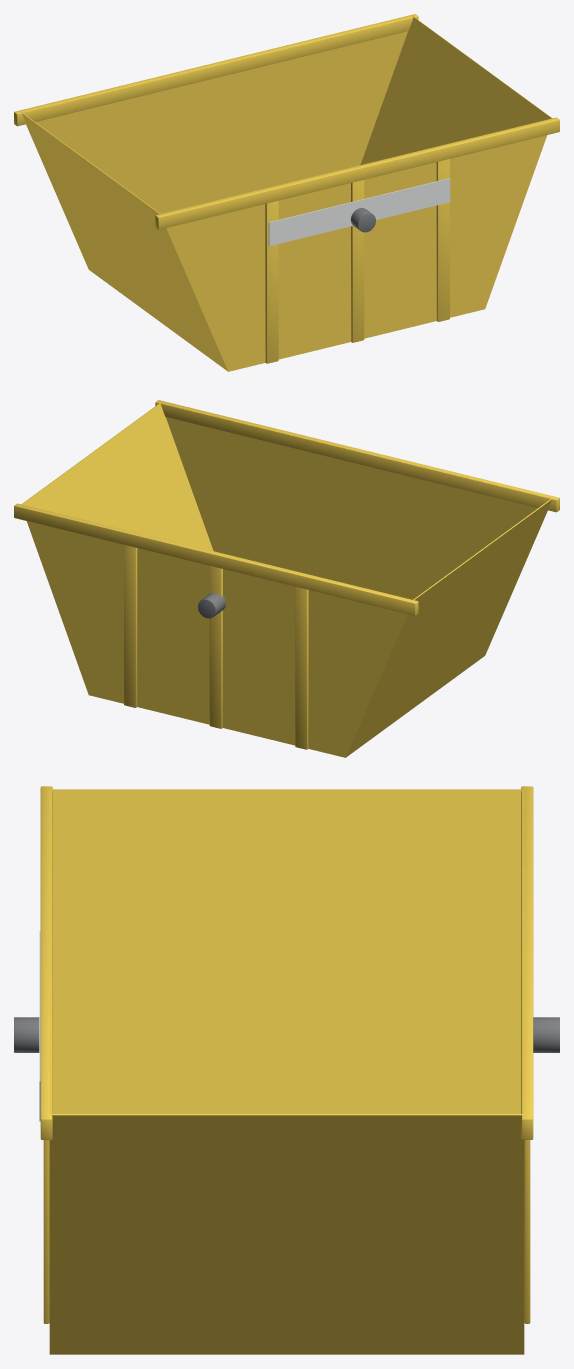
The model's file is SER-CAC-001_anim.glb.
3 views of the same model, one above another, from view 1: azimuth 30°, elevation 25°; view 2: azimuth 150°, elevation 25°; view 3: azimuth 270°, elevation 25° (orthographic). The views are drawn at different scales.
Visible parts, largest first — view 1: SER-CAC-001_anim0; view 2: SER-CAC-001_anim0; view 3: SER-CAC-001_anim0.
Part boxes in pixels (left/top/right/bottom): SER-CAC-001_anim0: left=14, top=14, right=559, bottom=371; SER-CAC-001_anim0: left=14, top=400, right=559, bottom=757; SER-CAC-001_anim0: left=14, top=786, right=559, bottom=1354.
Bounding box in the file's own units: 2.66 × 1.1 × 1.84.
